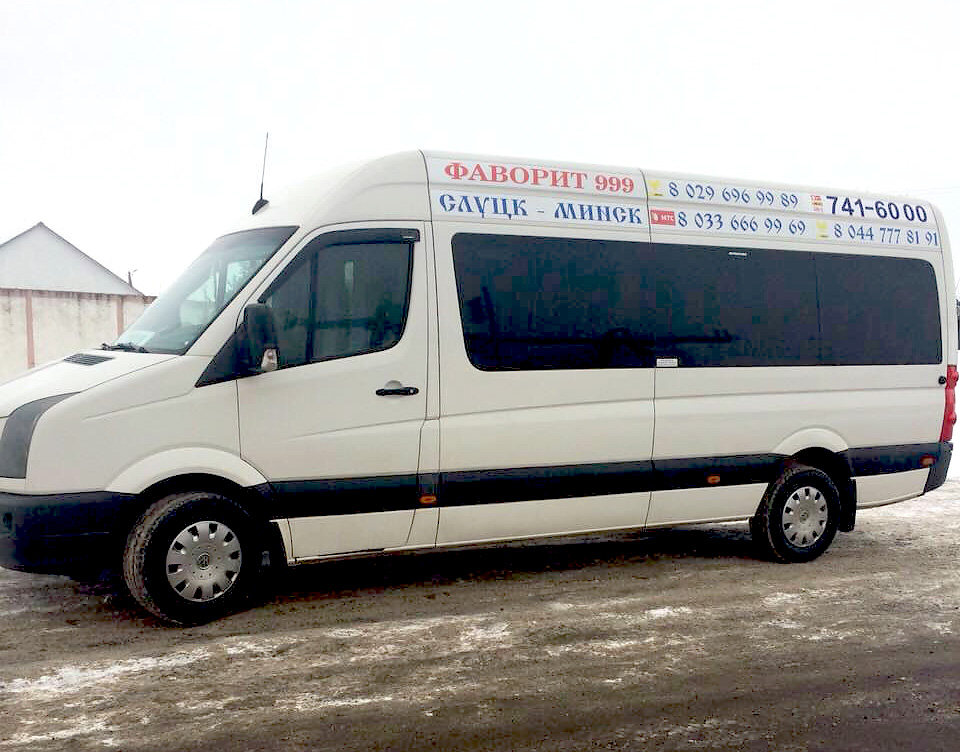van: (2, 149, 959, 625)
